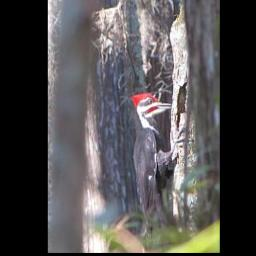Woodpecker: (129, 92, 194, 244)
